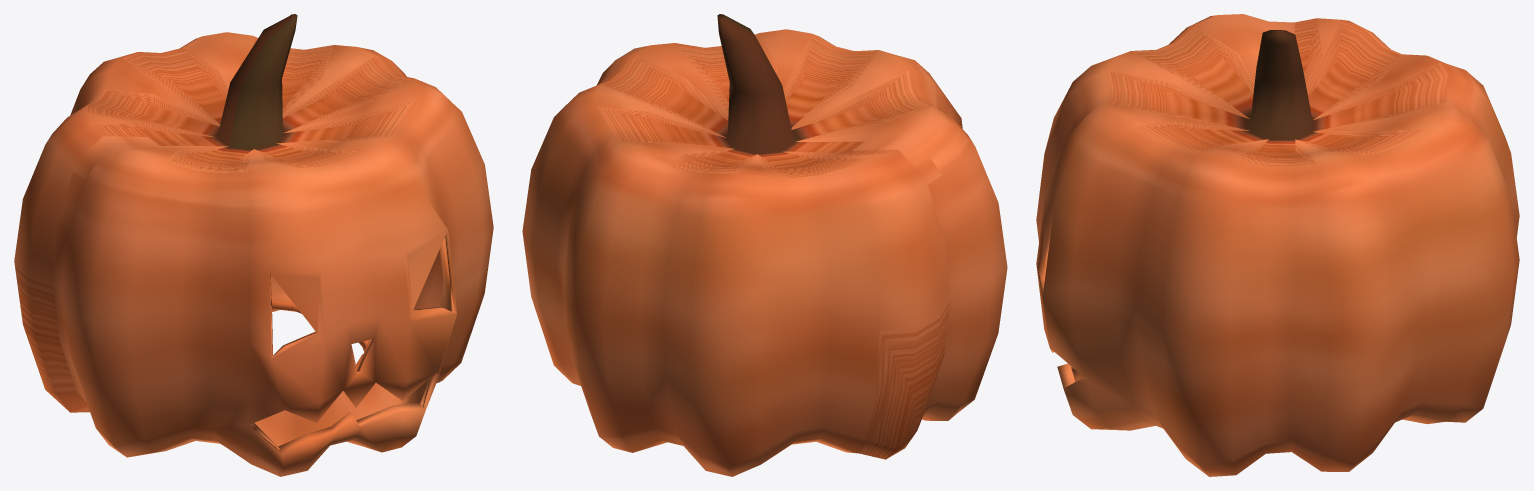
The model's file is Pumpkin.fbx.
3 renders of one model, left to right at view 1: azimuth 30°, elevation 25°; view 2: azimuth 150°, elevation 25°; view 3: azimuth 270°, elevation 25°, orthographic. The views are drawn at different scales.
Visible parts, largest first — view 1: Sphere; view 2: Sphere; view 3: Sphere.
Part boxes in pixels (left/top/right/bottom): Sphere: left=14, top=14, right=493, bottom=476; Sphere: left=522, top=14, right=1007, bottom=476; Sphere: left=1036, top=14, right=1519, bottom=476.
Size of the model in its own units: 176 by 154 by 172.
